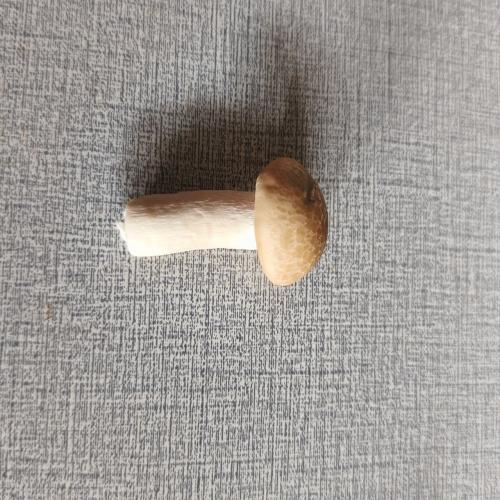Enoki Mushroom: (110, 151, 340, 316)
